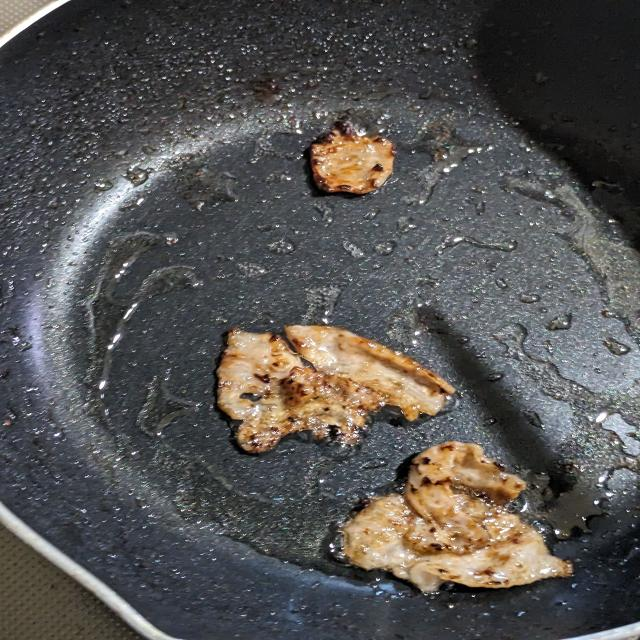OK cooked pork,: (324, 435, 586, 594), (206, 316, 469, 460), (310, 109, 406, 201)
